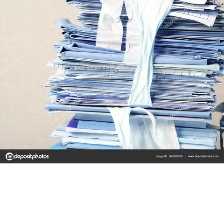book: (36, 1, 224, 151)
